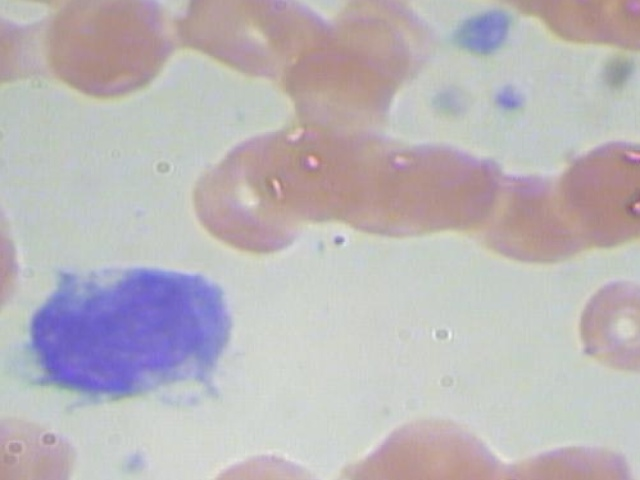Platelets: (445, 4, 515, 58), (487, 75, 535, 115), (106, 443, 154, 480)
RBC: (211, 113, 366, 226), (292, 130, 447, 243), (351, 124, 506, 237), (406, 149, 561, 262), (455, 157, 610, 270), (269, 15, 424, 128), (163, 147, 317, 260), (173, 0, 328, 100), (40, 0, 194, 100), (354, 408, 510, 480), (544, 132, 640, 245), (554, 269, 640, 382), (0, 179, 25, 319)
WBC: (11, 256, 245, 414)
